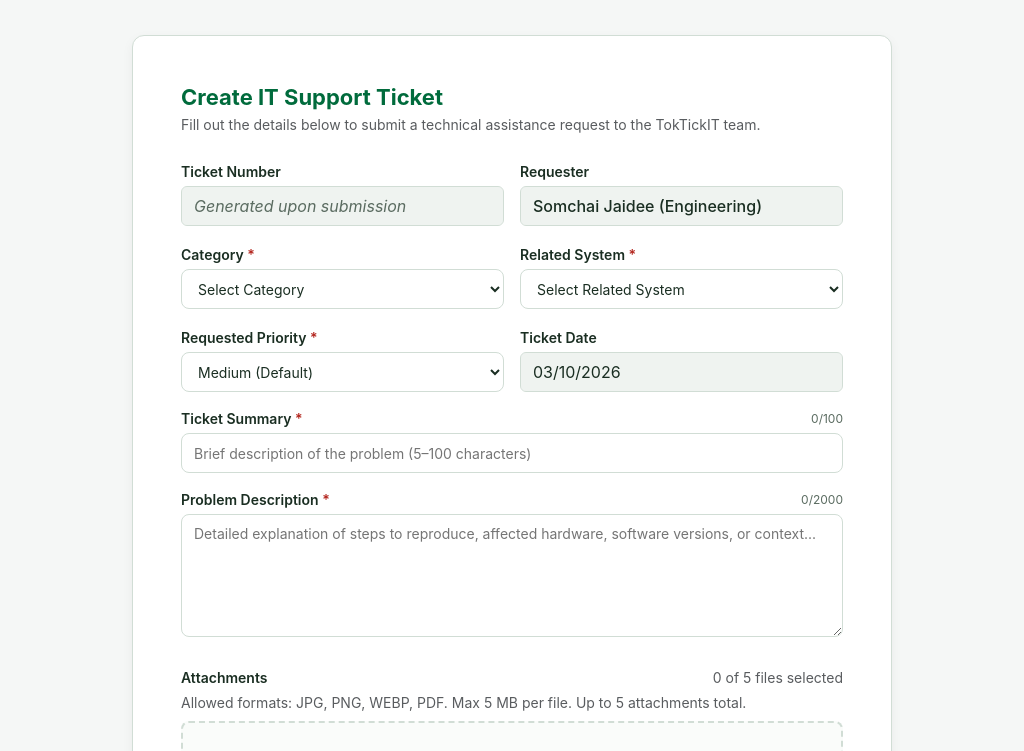
Test: Create Ticket Component UI Tests › TICK-UI-04: Submission success confirmation › displays generated ticket number and stub link to ticket details on success
Select "Hardware" in the dropdown labelled "Category *": (342, 289) [181,269,504,309]
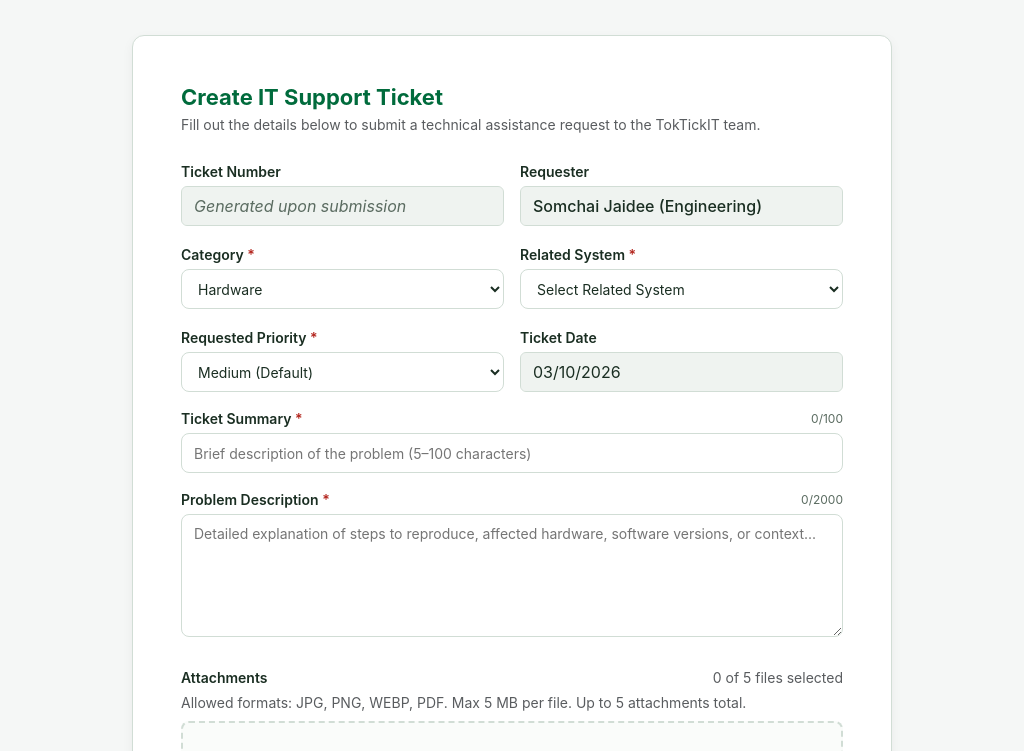
Select "Corporate Laptop" in the dropdown labelled "Related System *": (682, 289) [520,269,843,309]
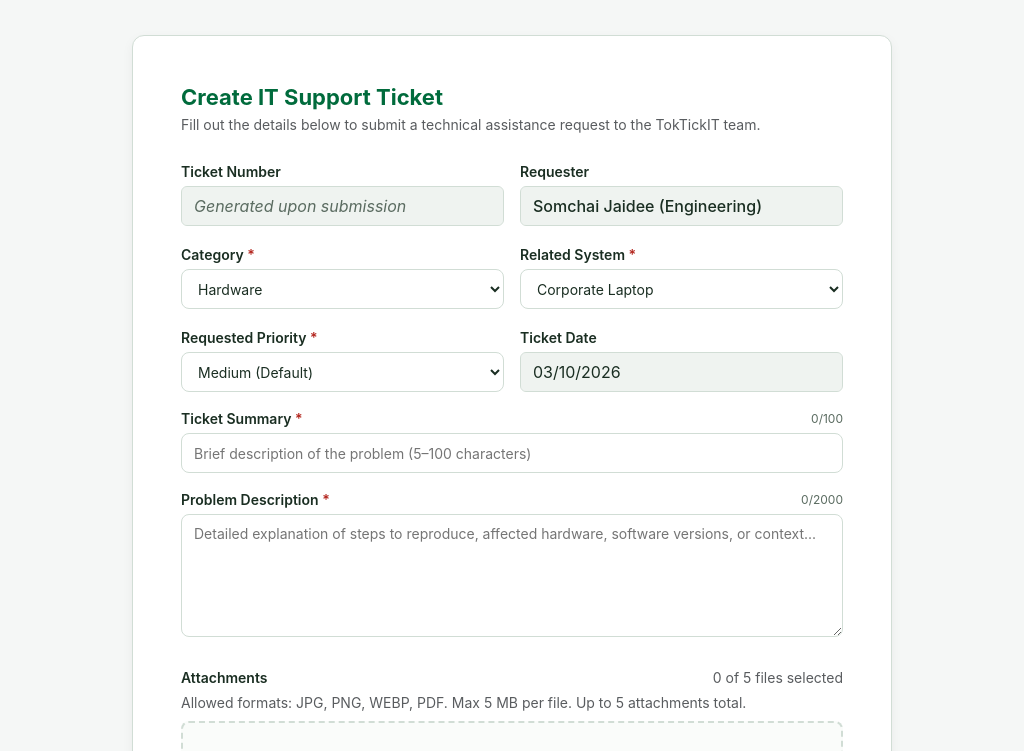
In the field labelled "Ticket Summary *": (512, 453) [181,433,843,473], type "Valid Summary for Testing"
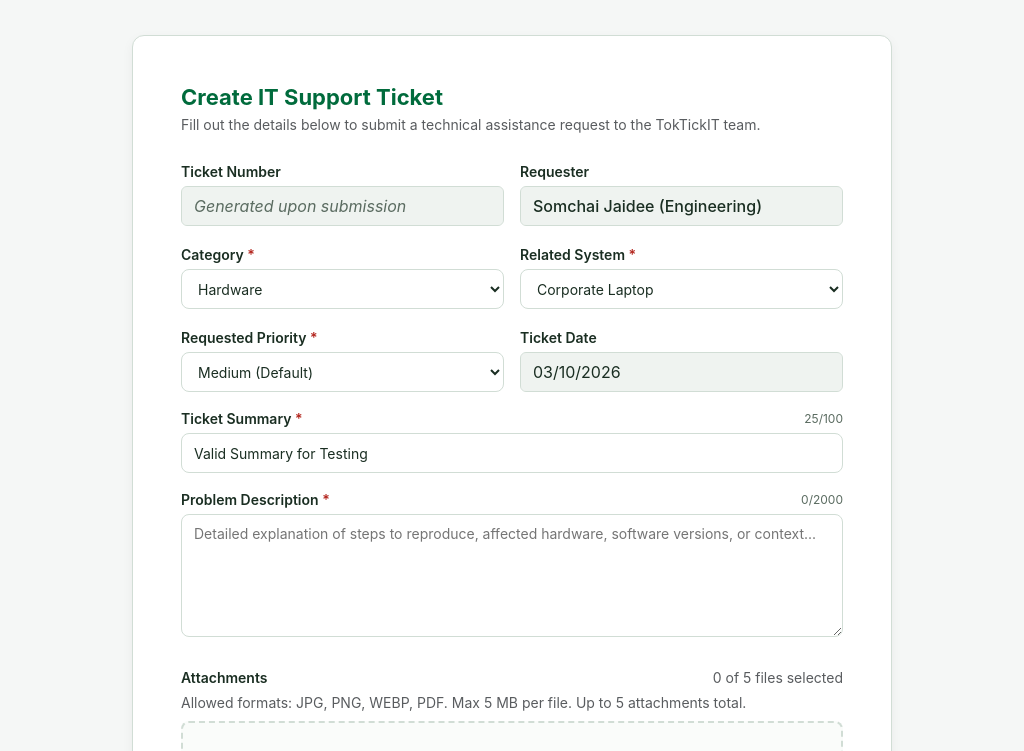
Replace the text in the text box labelled "Problem Description *" with "Valid Problem Description with sufficient characters.": (512, 576) [181,514,843,637]
(page scrolled)
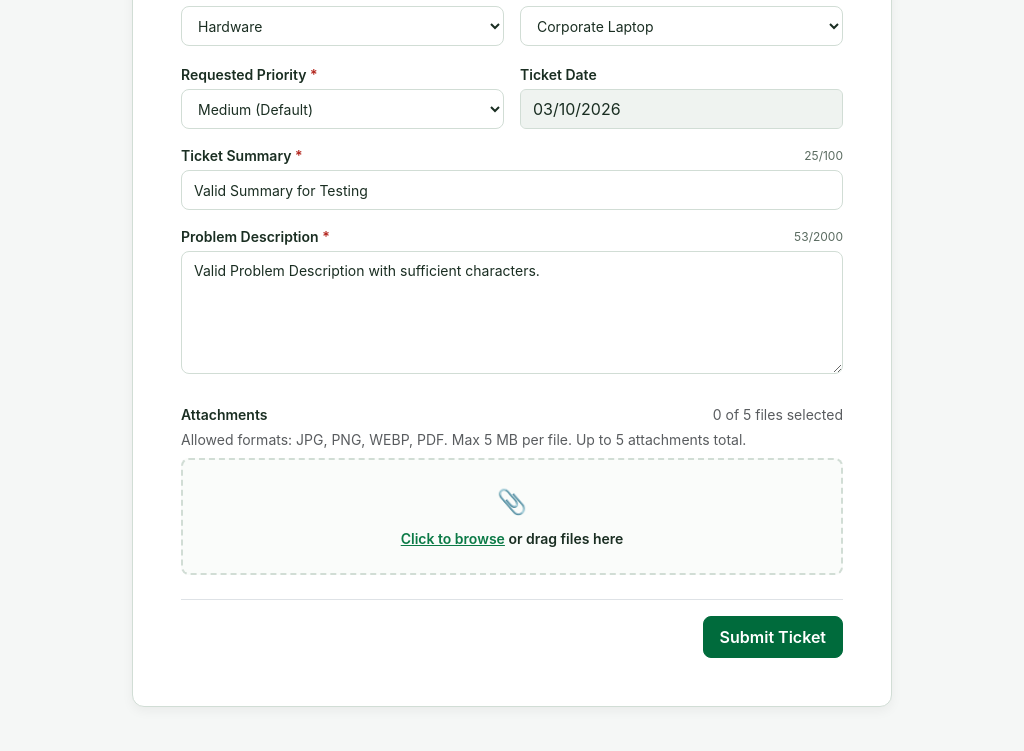
Click the button "Submit Ticket": (773, 637) [703,616,843,658]
(page scrolled)
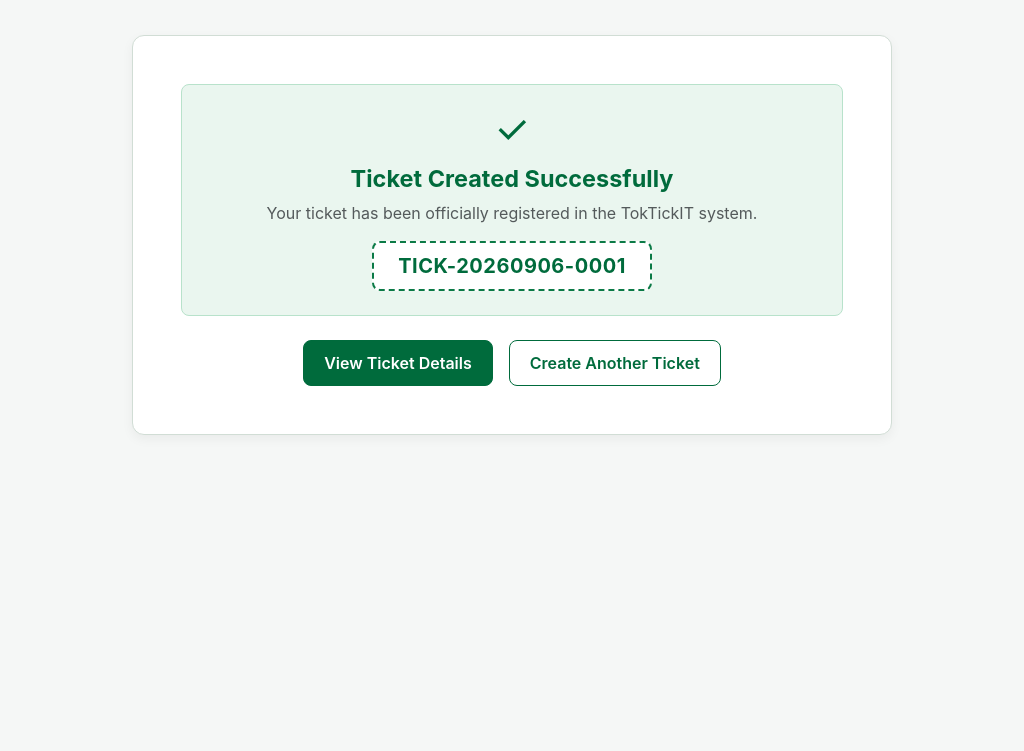
Now the text "TICK-20260906-0001" is shown, box [372,241,652,291]
Now the heading "Ticket Created Successfully" is shown, box [351,164,673,193]
